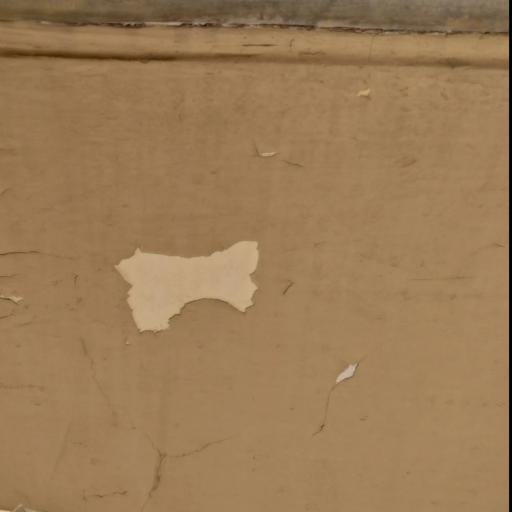peeling: (90, 206, 286, 341), (316, 342, 376, 400), (232, 136, 302, 178), (0, 274, 43, 324), (348, 74, 382, 108)
